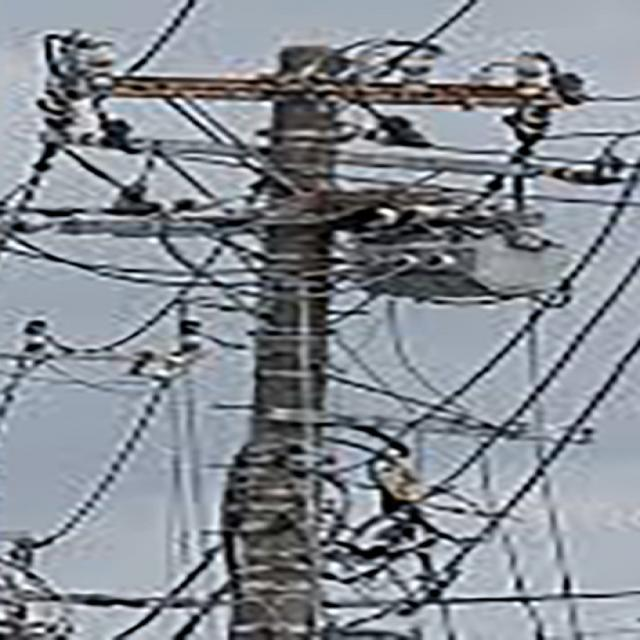pole: (2, 27, 580, 640)
